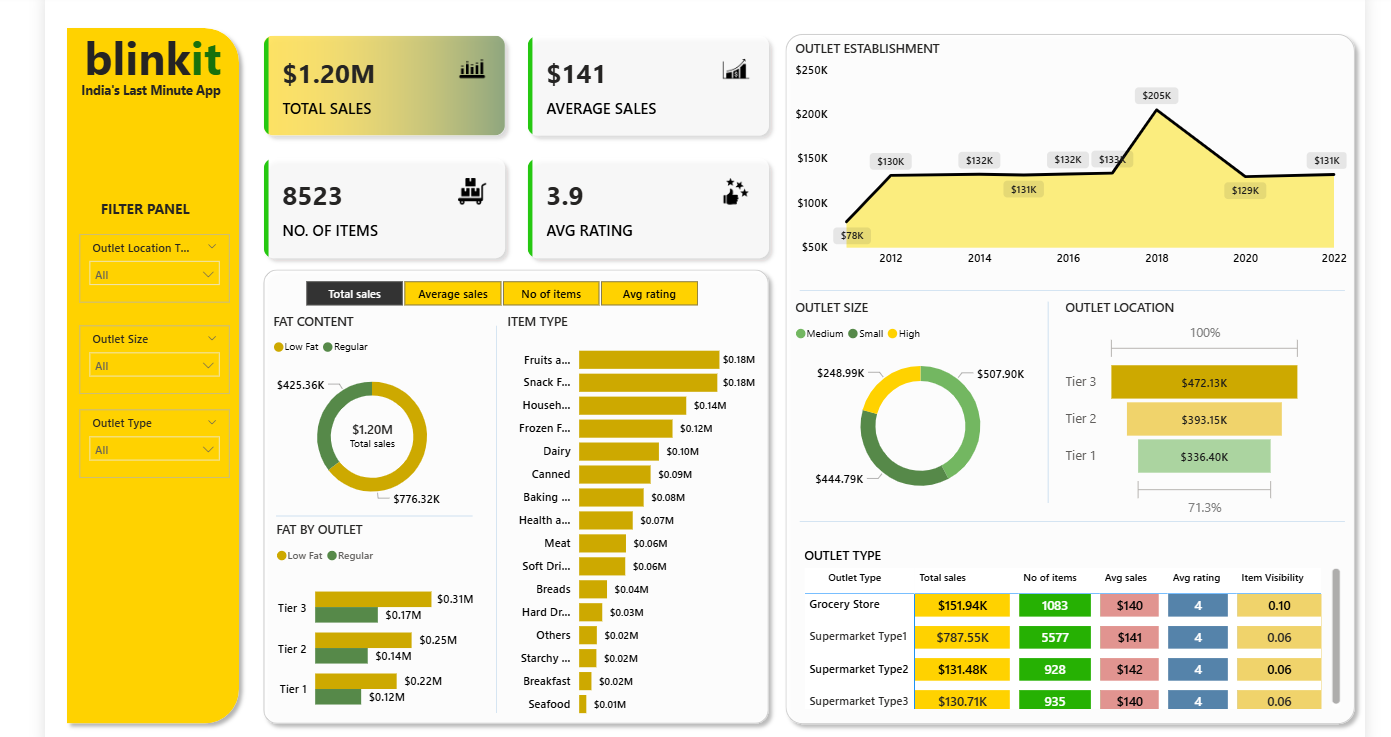

The page's visual inventory and layout, read from the dashboard file:
{"tool":"powerbi","page":{"name":"Page 1","canvas":[1400,800],"ordinal":0},"visuals":[{"type":"shape","box":[14.3,27.1,200.5,756],"z":0},{"type":"textbox","box":[28.9,28.9,171.6,86.8],"z":1000},{"type":"textbox","box":[28.9,86.8,167.4,28.9],"z":2000},{"type":"cardVisual","fields":{"Data":["BlinkIT Grocery Data.Total sales","BlinkIT Grocery Data.Average sales","BlinkIT Grocery Data.No of items","BlinkIT Grocery Data.Avg rating"]},"box":[215,26.9,570.5,270.8],"z":3000},{"type":"shape","box":[223.2,283.2,553.9,500],"z":4000},{"type":"donutChart","title":"FAT CONTENT","fields":{"Y":["BlinkIT Grocery Data.Total sales"],"Category":["BlinkIT Grocery Data.Item Fat Content"]},"box":[237.7,336.9,219.1,219.1],"z":5000},{"type":"slicer","fields":{"Values":["Metrics.Metrics"]},"box":[252.2,297.6,465.1,39.3],"z":6000},{"type":"cardVisual","fields":{"Data":["BlinkIT Grocery Data.Total sales"]},"box":[293.5,429.9,109.5,76.5],"z":7000},{"type":"clusteredBarChart","title":"FAT BY OUTLET","fields":{"Y":["BlinkIT Grocery Data.Total sales"],"Category":["BlinkIT Grocery Data.Outlet Location Type"],"Series":["BlinkIT Grocery Data.Item Fat Content"]},"box":[240.4,558.5,219.2,219.2],"z":8000},{"type":"shape","box":[245.7,546.1,208.5,15.9],"z":9000},{"type":"shape","box":[473.3,351.4,12.4,411.3],"z":10000},{"type":"barChart","title":"ITEM TYPE","fields":{"Y":["BlinkIT Grocery Data.Total sales"],"Category":["BlinkIT Grocery Data.Item Type"]},"box":[485.7,336.9,272.8,440.3],"z":11000},{"type":"shape","box":[777.2,33.1,622.2,750.3],"z":12000},{"type":"lineChart","title":"OUTLET ESTABLISHMENT","fields":{"Category":["BlinkIT Grocery Data.Outlet Establishment Year"],"Y":["BlinkIT Grocery Data.Total sales"]},"box":[791.6,47.5,595.3,250.1],"z":13000},{"type":"shape","box":[799.9,310,578.7,8.3],"z":14000},{"type":"donutChart","title":"OUTLET SIZE","fields":{"Y":["BlinkIT Grocery Data.Total sales"],"Category":["BlinkIT Grocery Data.Outlet Size"]},"box":[791.6,322.4,275,225],"z":15000},{"type":"shape","box":[1051.6,327,24.7,213.8],"z":16000},{"type":"funnel","title":"OUTLET LOCATION","fields":{"Y":["BlinkIT Grocery Data.Total sales"],"Category":["BlinkIT Grocery Data.Outlet Location Type"]},"box":[1076.9,322.4,261,237],"z":17000},{"type":"shape","box":[799.9,556,578.7,8.3],"z":18000},{"type":"pivotTable","title":"OUTLET TYPE","fields":{"Rows":["BlinkIT Grocery Data.Outlet Type"],"Values":["BlinkIT Grocery Data.Total sales","BlinkIT Grocery Data.No of items","BlinkIT Grocery Data.Average sales","BlinkIT Grocery Data.Avg rating","Avg(BlinkIT Grocery Data.Item Visibility)"]},"box":[799.9,584.9,578.7,177.8],"z":19000},{"type":"slicer","fields":{"Values":["BlinkIT Grocery Data.Outlet Location Type"]},"box":[37.1,254.5,159.1,72.5],"z":20000},{"type":"slicer","fields":{"Values":["BlinkIT Grocery Data.Outlet Size"]},"box":[37.1,351.7,159.1,72.5],"z":21000},{"type":"slicer","fields":{"Values":["BlinkIT Grocery Data.Outlet Type"]},"box":[37.1,440.1,159.1,72.5],"z":22000},{"type":"textbox","box":[54.7,212,114.3,29.8],"z":23000}]}

Visuals, with their boxes on the page's 1400x800 design canvas (x1, y1, x2, y2). These are canvas units, not pixel positions in the 1391x737 screenshot, which may show the page scaled, cropped or inside an application window:
shape: l=14, t=27, r=215, b=783
textbox: l=29, t=29, r=200, b=116
textbox: l=29, t=87, r=196, b=116
cardVisual - BlinkIT Grocery Data.Total sales x BlinkIT Grocery Data.Average sales: l=215, t=27, r=786, b=298
shape: l=223, t=283, r=777, b=783
"FAT CONTENT" donutChart: l=238, t=337, r=457, b=556
slicer - Metrics.Metrics: l=252, t=298, r=717, b=337
cardVisual - BlinkIT Grocery Data.Total sales: l=294, t=430, r=403, b=506
"FAT BY OUTLET" clusteredBarChart: l=240, t=558, r=460, b=778
shape: l=246, t=546, r=454, b=562
shape: l=473, t=351, r=486, b=763
"ITEM TYPE" barChart: l=486, t=337, r=758, b=777
shape: l=777, t=33, r=1399, b=783
"OUTLET ESTABLISHMENT" lineChart: l=792, t=48, r=1387, b=298
shape: l=800, t=310, r=1379, b=318
"OUTLET SIZE" donutChart: l=792, t=322, r=1067, b=547
shape: l=1052, t=327, r=1076, b=541
"OUTLET LOCATION" funnel: l=1077, t=322, r=1338, b=559
shape: l=800, t=556, r=1379, b=564
"OUTLET TYPE" pivotTable: l=800, t=585, r=1379, b=763
slicer - BlinkIT Grocery Data.Outlet Location Type: l=37, t=254, r=196, b=327
slicer - BlinkIT Grocery Data.Outlet Size: l=37, t=352, r=196, b=424
slicer - BlinkIT Grocery Data.Outlet Type: l=37, t=440, r=196, b=513
textbox: l=55, t=212, r=169, b=242
